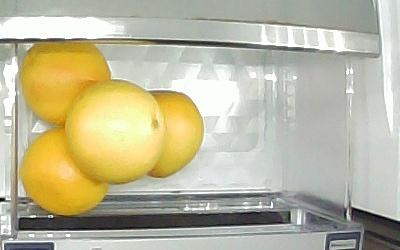grapefruit: (66, 80, 166, 184), (20, 128, 108, 215), (21, 45, 114, 125), (131, 90, 204, 178)
